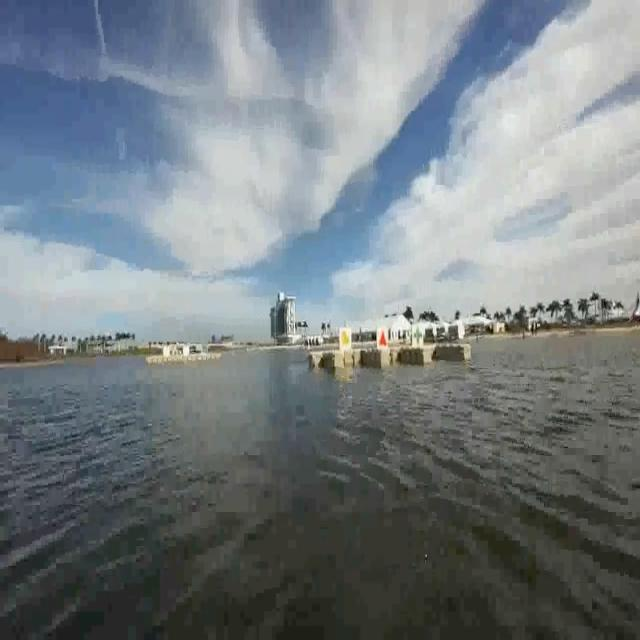blue-cross: (413, 321, 425, 349)
red-dot: (374, 323, 388, 348)
yellow-duck: (340, 326, 353, 351)
